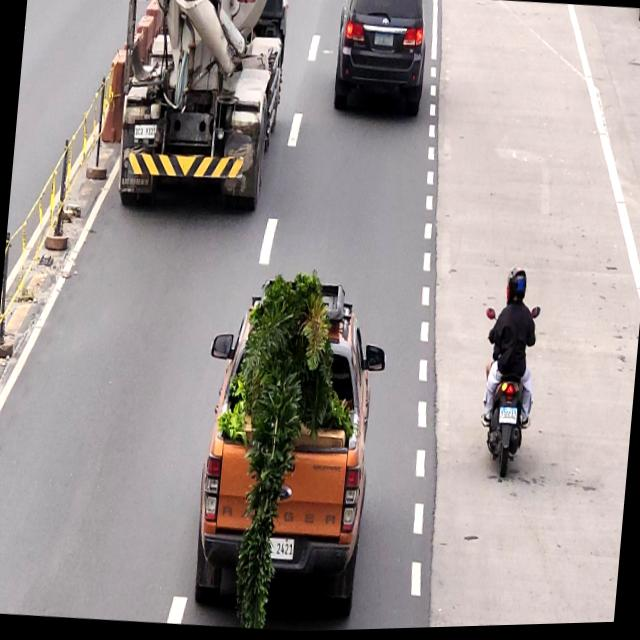Car: (198, 275, 385, 630), (328, 0, 431, 125)
License-Plate: (130, 120, 159, 144), (268, 536, 295, 561), (497, 405, 518, 430), (372, 33, 396, 49)
Motorcycle: (476, 266, 544, 478)
Truck: (118, 0, 288, 212)
